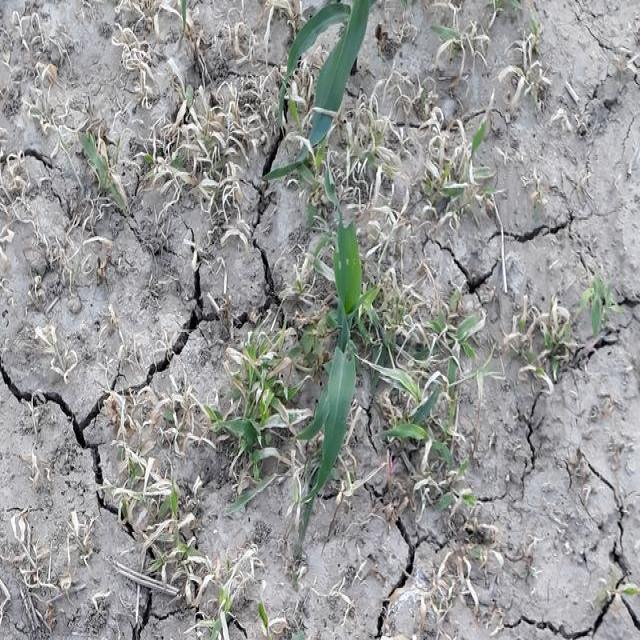weed: (200, 218, 475, 512)
